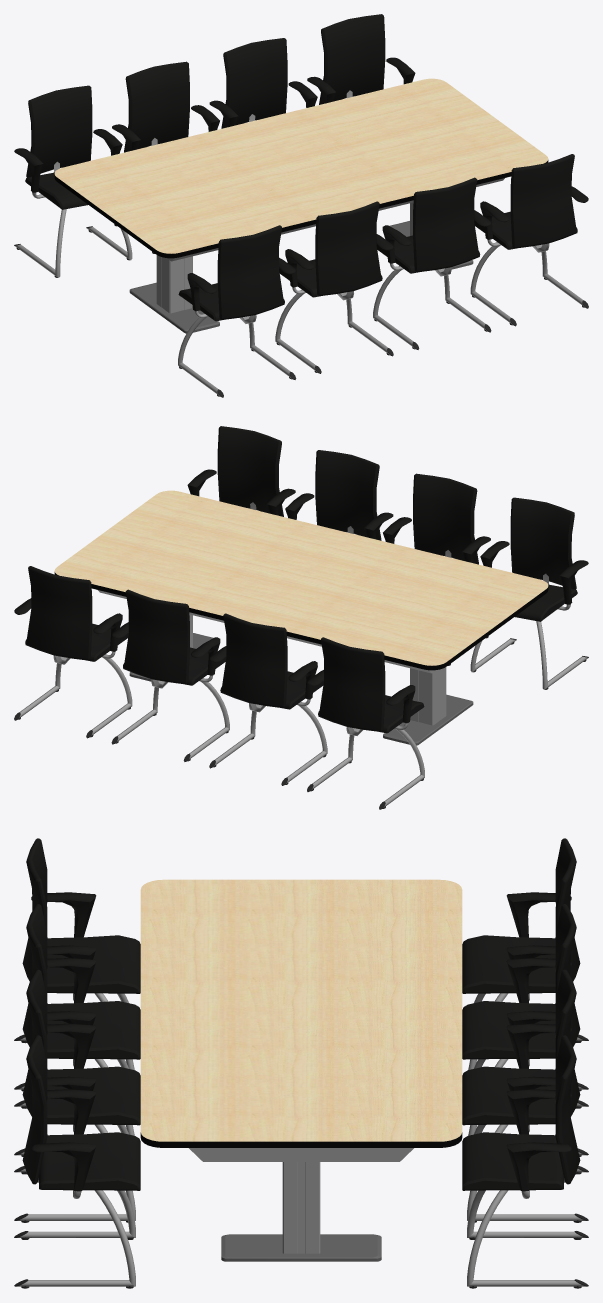
Rendered from CGM+Collaboration+Desk+x8.fbx.
3 views of the same model, one above another, from view 1: azimuth 30°, elevation 25°; view 2: azimuth 150°, elevation 25°; view 3: azimuth 270°, elevation 25° (orthographic). The views are drawn at different scales.
Visible parts, largest first — view 1: CGM_Base_table_Topboard_CollaborationDesk_x8_1, H_G_Backrest2, H_G_Backrest7, H_G_Backrest8, H_G_Backrest6, H_G_Backrest5, H_G_Backrest1, H_G_Backrest4, H_G_Backrest3, CGM_Base_table_Pillar1, CGM_Base_table_Pillar_Foot_6_2, H_G_Seat5 (+11 smaller); view 2: CGM_Base_table_Topboard_CollaborationDesk_x8_1, H_G_Backrest3, H_G_Backrest4, H_G_Backrest5, H_G_Backrest1, H_G_Backrest6, H_G_Backrest8, H_G_Backrest2, H_G_Backrest7, CGM_Base_table_Pillar1, CGM_Base_table_Pillar_Foot_6_2, H_G_Seat6 (+11 smaller); view 3: CGM_Base_table_Topboard_CollaborationDesk_x8_1, H_G_Seat8, H_G_Seat1, H_G_Seat6, H_G_Seat5, H_G_Seat2, H_G_Seat4, H_G_Seat3, H_G_Seat7, CGM_Base_table_Pillar_Foot_6_1, CGM_Base_table_Pillar2, CGM_Base_table_Topboard_Frame_CollaborationDesk1 (+30 smaller).
Part boxes in pixels (box(x1,y1,x2,y2)): CGM_Base_table_Topboard_CollaborationDesk_x8_1: box(54, 78, 548, 258); H_G_Backrest2: box(315, 201, 381, 296); H_G_Backrest7: box(413, 177, 478, 272); H_G_Backrest8: box(510, 154, 576, 248); H_G_Backrest6: box(217, 225, 283, 319); H_G_Backrest5: box(26, 85, 92, 177); H_G_Backrest1: box(319, 14, 385, 104); H_G_Backrest4: box(124, 61, 189, 152); H_G_Backrest3: box(221, 38, 287, 128); CGM_Base_table_Pillar1: box(156, 255, 192, 313); CGM_Base_table_Pillar_Foot_6_2: box(129, 282, 219, 333); H_G_Seat5: box(25, 172, 87, 209); CGM_Base_table_Topboard_CollaborationDesk_x8_1: box(54, 490, 548, 670); H_G_Backrest3: box(124, 589, 189, 684); H_G_Backrest4: box(221, 613, 287, 708); H_G_Backrest5: box(319, 637, 385, 731); H_G_Backrest1: box(26, 566, 92, 660); H_G_Backrest6: box(510, 497, 576, 589); H_G_Backrest8: box(217, 426, 283, 516); H_G_Backrest2: box(413, 473, 478, 564); H_G_Backrest7: box(315, 450, 381, 540); CGM_Base_table_Pillar1: box(410, 667, 446, 725); CGM_Base_table_Pillar_Foot_6_2: box(383, 694, 473, 745); H_G_Seat6: box(515, 584, 577, 621); CGM_Base_table_Topboard_CollaborationDesk_x8_1: box(140, 879, 462, 1147); H_G_Seat8: box(39, 1132, 140, 1190); H_G_Seat1: box(462, 1132, 563, 1190); H_G_Seat6: box(47, 935, 140, 993); H_G_Seat5: box(462, 935, 555, 993); H_G_Seat2: box(47, 1001, 140, 1059); H_G_Seat4: box(462, 1001, 555, 1059); H_G_Seat3: box(462, 1066, 555, 1125); H_G_Seat7: box(47, 1066, 140, 1125); CGM_Base_table_Pillar_Foot_6_1: box(221, 1234, 381, 1261); CGM_Base_table_Pillar2: box(282, 1162, 320, 1253); CGM_Base_table_Topboard_Frame_CollaborationDesk1: box(189, 1148, 413, 1161).
Bounding box in the file's own units: 2700 × 999 × 2504.
